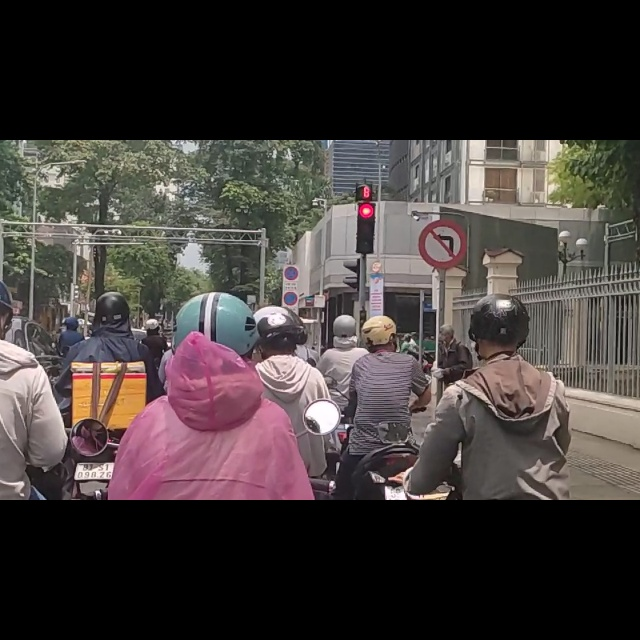bien_chi_dan: (417, 141, 466, 230), (284, 269, 299, 297), (283, 223, 298, 251)
